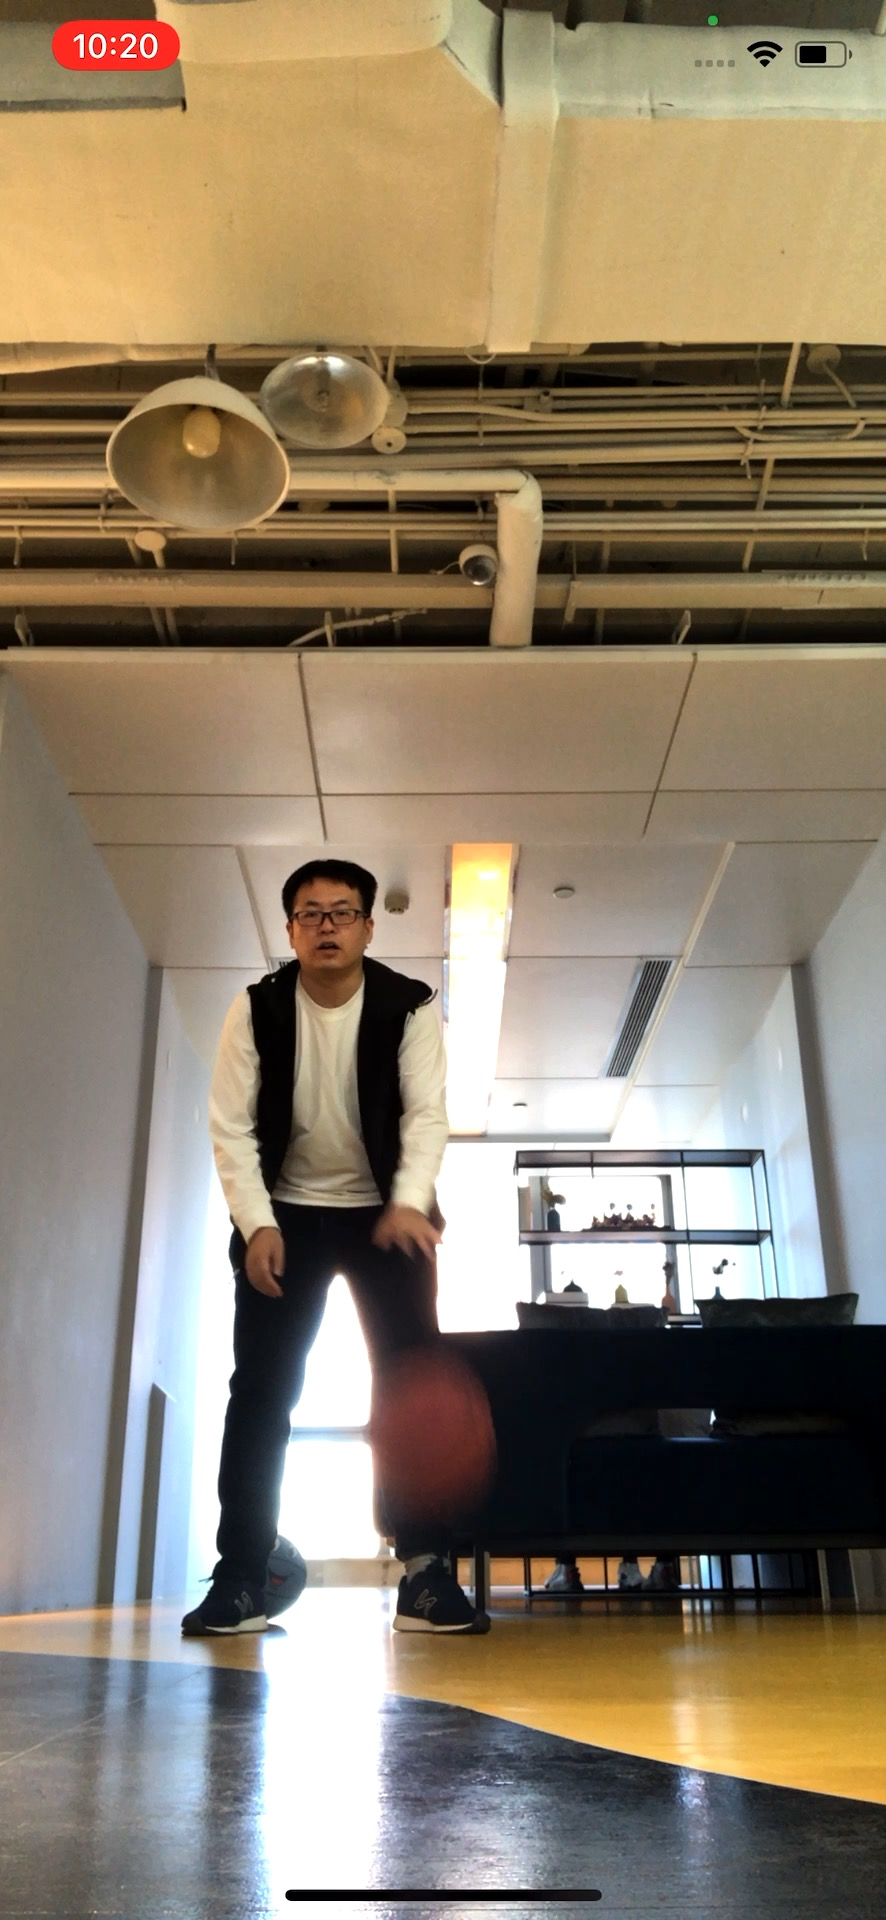ball: (370, 1365, 498, 1506)
